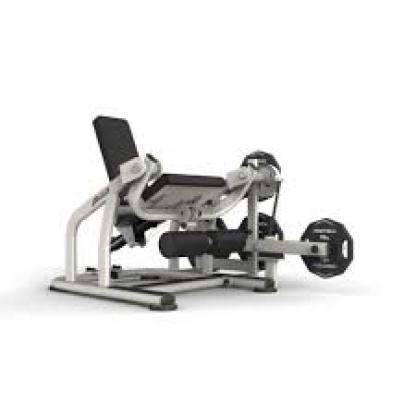leg extension: (42, 99, 357, 337)
